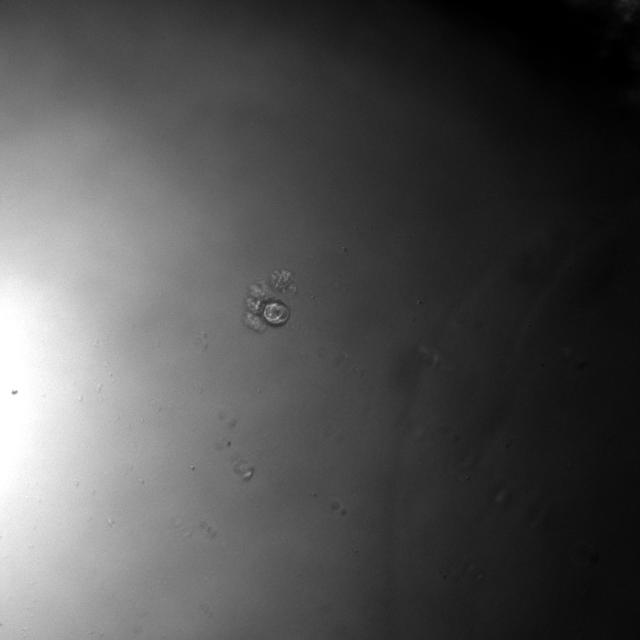organoid: (243, 268, 297, 331)
